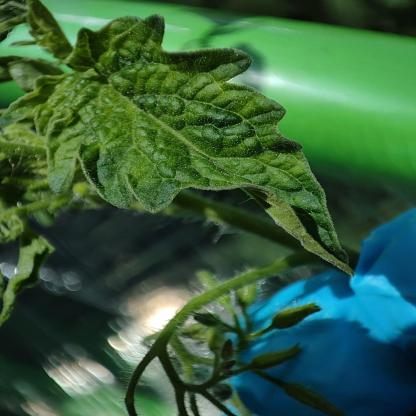T_L_R: (36, 17, 351, 273)
